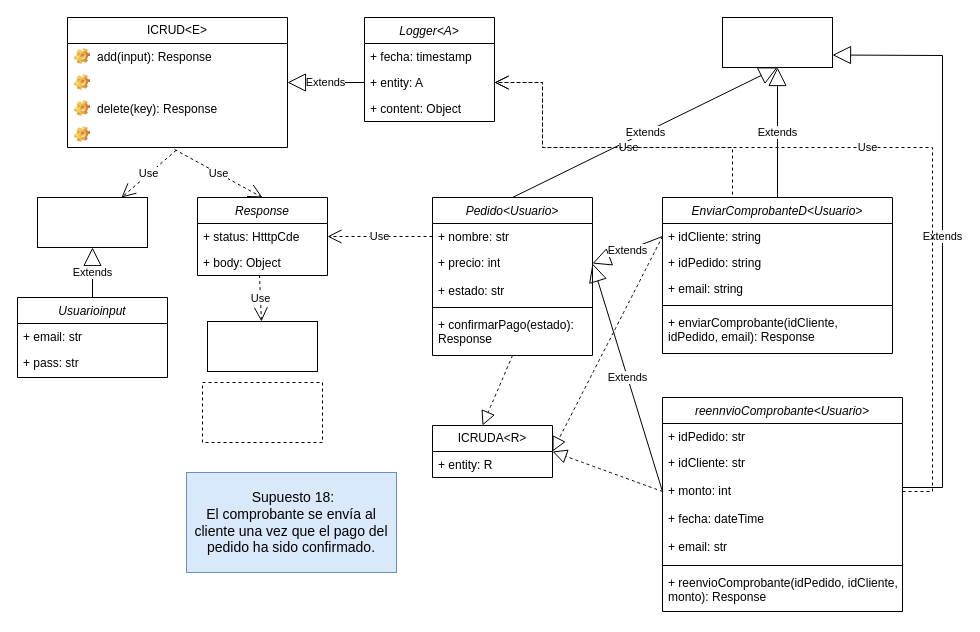
This 980x632 diagram has some shape labels left out. The centre of each missing label's shape, as x and y in pixels:
200: OK 400: Not Allowed 404: Not Found: (x=262, y=412)
HttpCode: (x=262, y=346)
query(key): Response: (x=177, y=134)
update(key, input): Response: (x=177, y=82)
«interface» ICRUD: (x=777, y=42)
«interface» input: (x=92, y=222)
